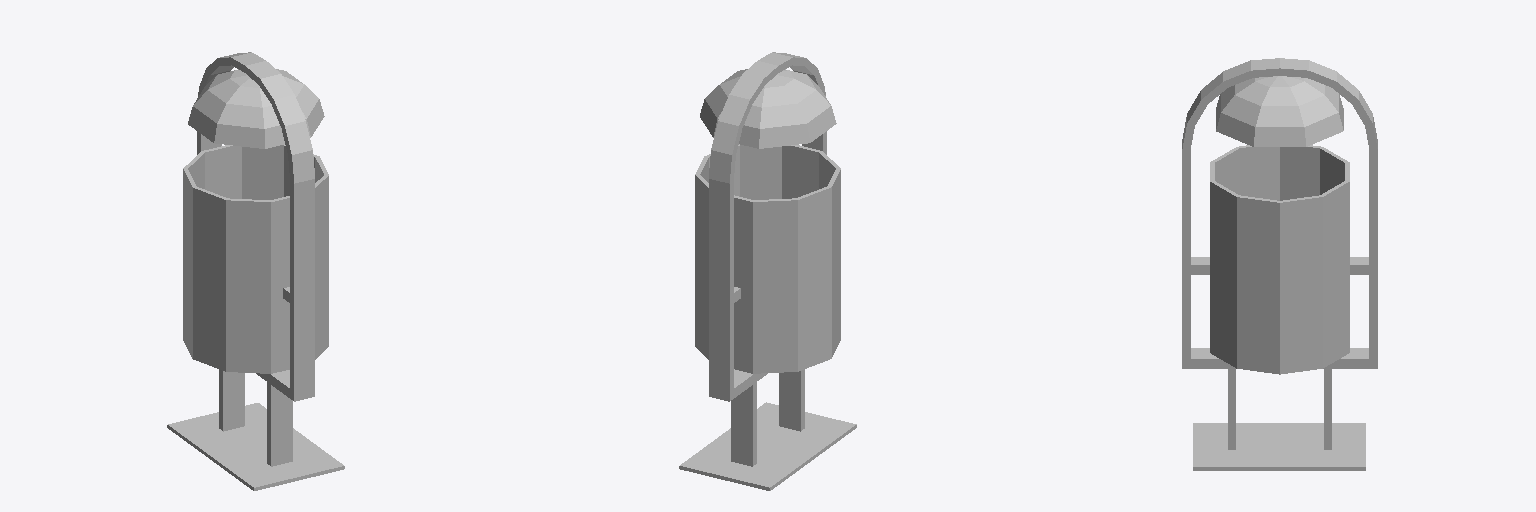
Rendered from Muelleimer_noMat.obj.
The picture shows the model from 3 angles: view 1: azimuth 30°, elevation 25°; view 2: azimuth 150°, elevation 25°; view 3: azimuth 270°, elevation 25°; orthographic projection.
Parts seen in each view (by area): view 1: Muelleimer1; view 2: Muelleimer1; view 3: Muelleimer1.
Part boxes in pixels (x1,y1,x2,y2): Muelleimer1: (167,52,344,490); Muelleimer1: (679,52,856,490); Muelleimer1: (1182,58,1377,470).
Bounding box in the file's own units: 40.44 × 117 × 53.91.